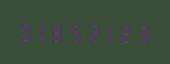eight: (51, 19, 67, 43)
five: (68, 19, 84, 43)
one: (34, 19, 50, 43), (102, 20, 118, 44)
three: (136, 20, 152, 45)
two: (85, 20, 101, 44), (119, 20, 135, 44)
zero: (17, 18, 33, 43)
